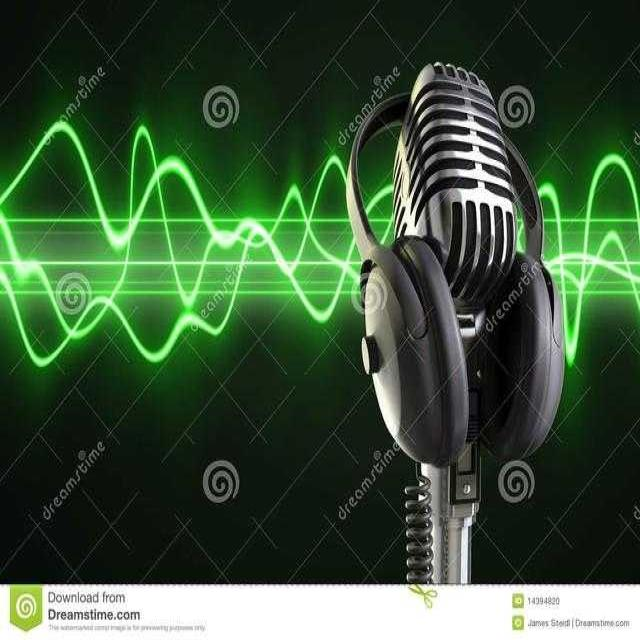microphone: (348, 65, 566, 580)
